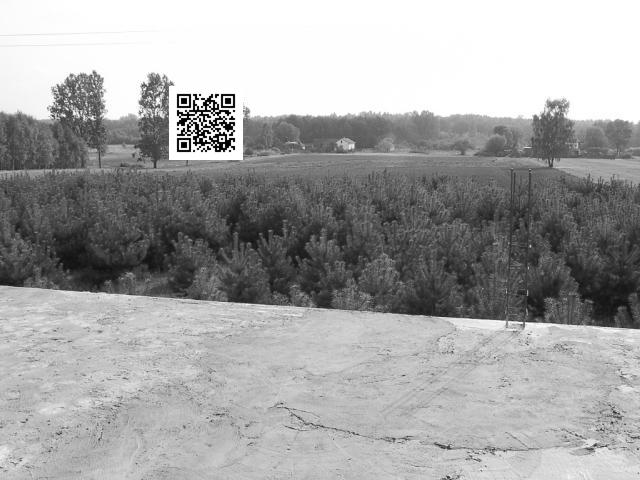qr_code: (169, 85, 243, 159)
